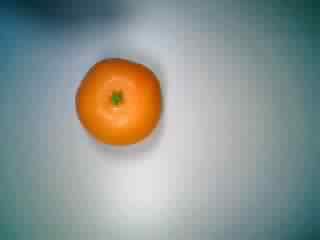orange: (72, 53, 169, 150)
